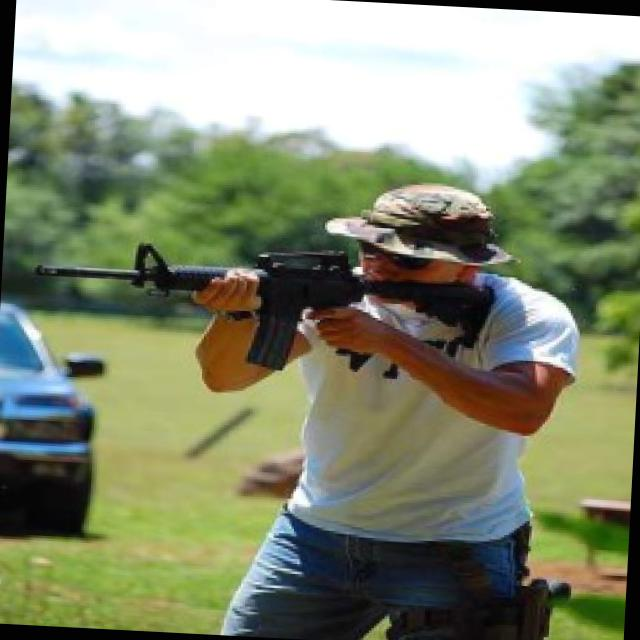long weapon: (22, 232, 502, 386)
